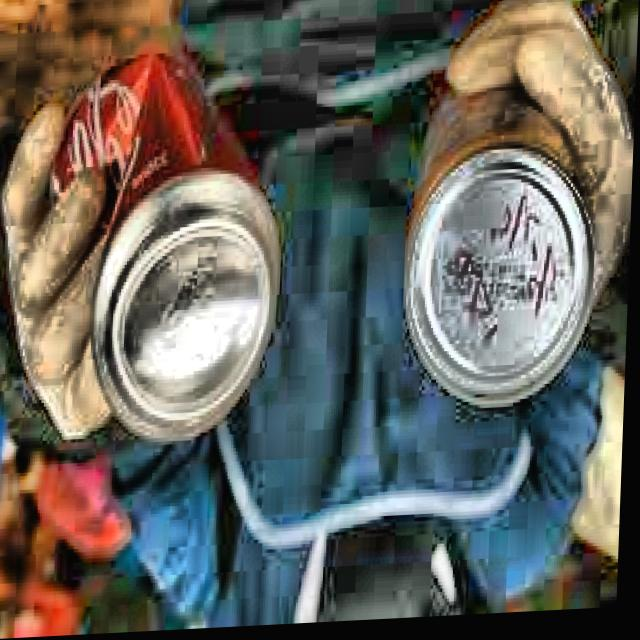can: (30, 28, 295, 459), (396, 44, 610, 429)
